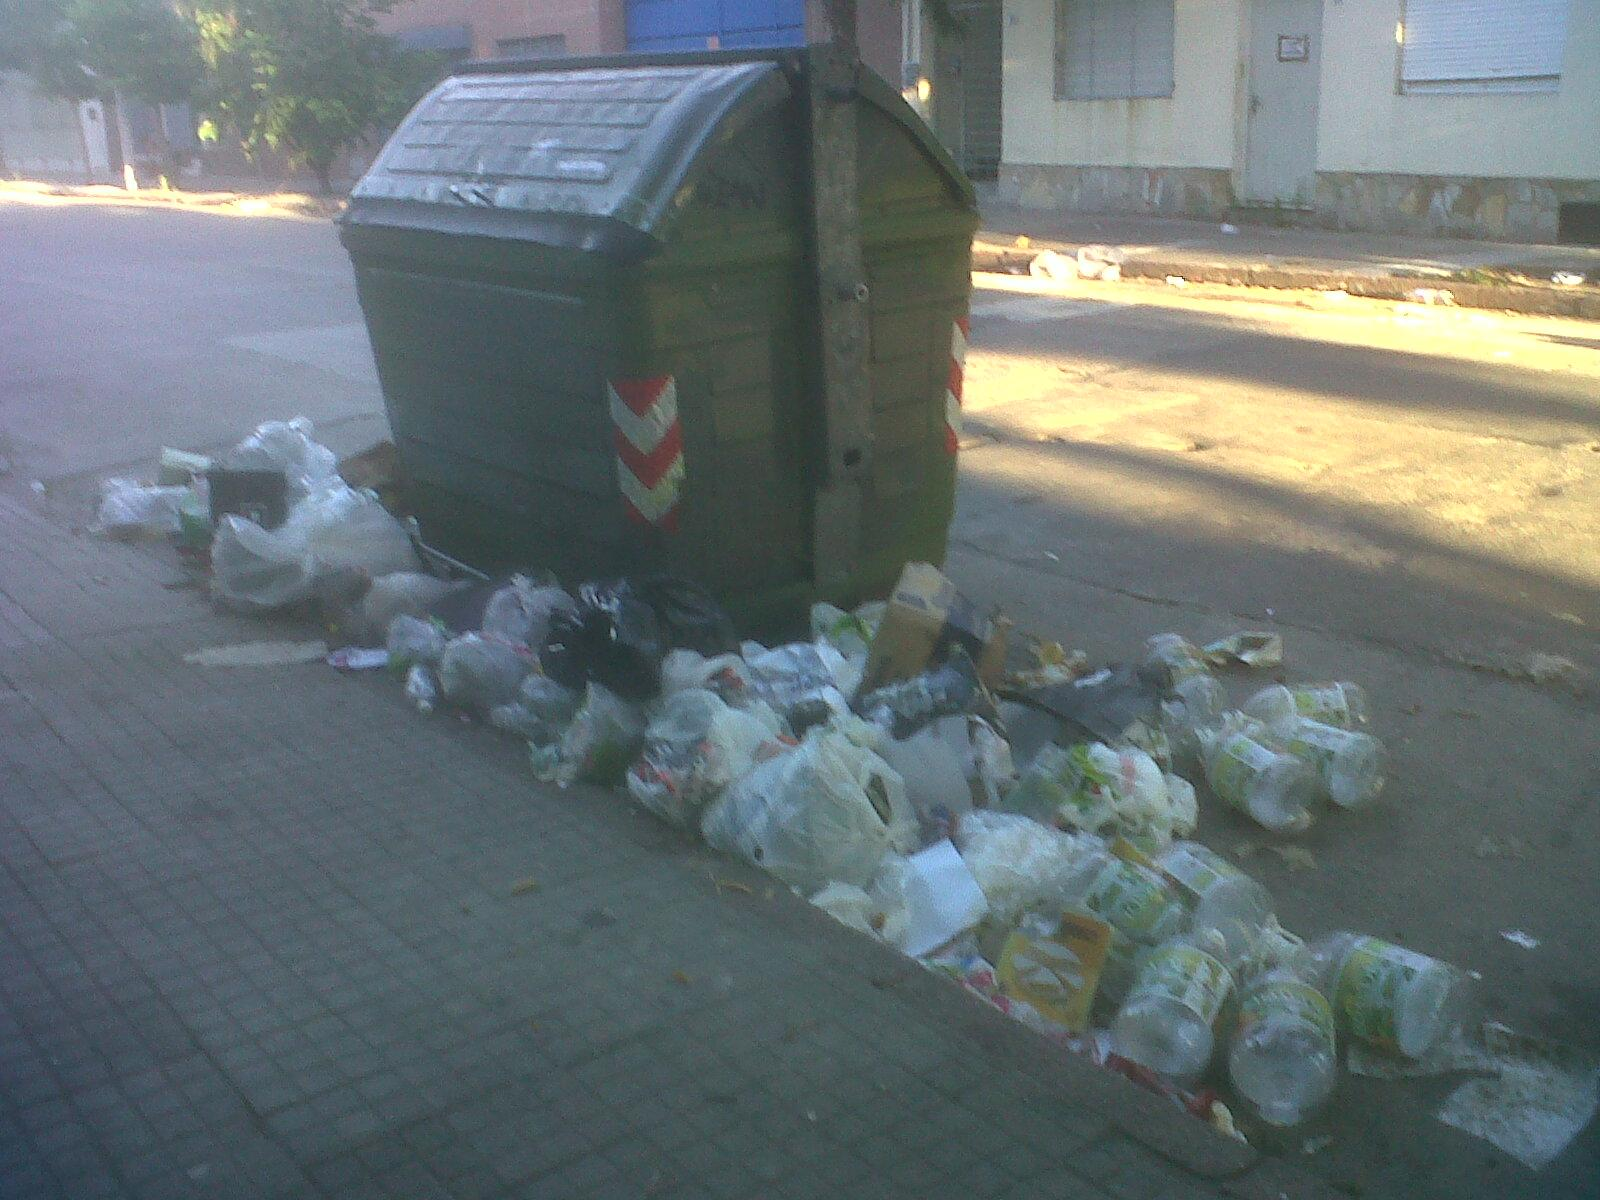Dechets: (921, 634, 1490, 1139), (98, 418, 731, 785), (625, 630, 1014, 953)
Trash: (338, 45, 978, 644)
